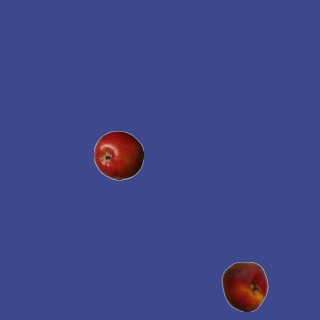Apple Braeburn: (93, 130, 143, 180)
Nectarine Flat: (219, 261, 269, 311)
